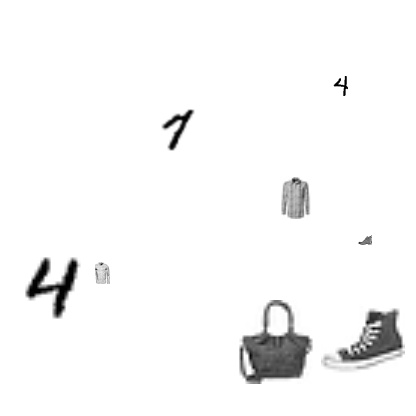4: (11, 243, 95, 327), (328, 71, 356, 99)
7: (150, 98, 206, 154)
Ankle_boot: (358, 233, 372, 247)
Bag: (234, 300, 318, 384)
Shirt: (274, 177, 316, 219), (90, 262, 112, 284)
Sneaker: (321, 297, 405, 381)
